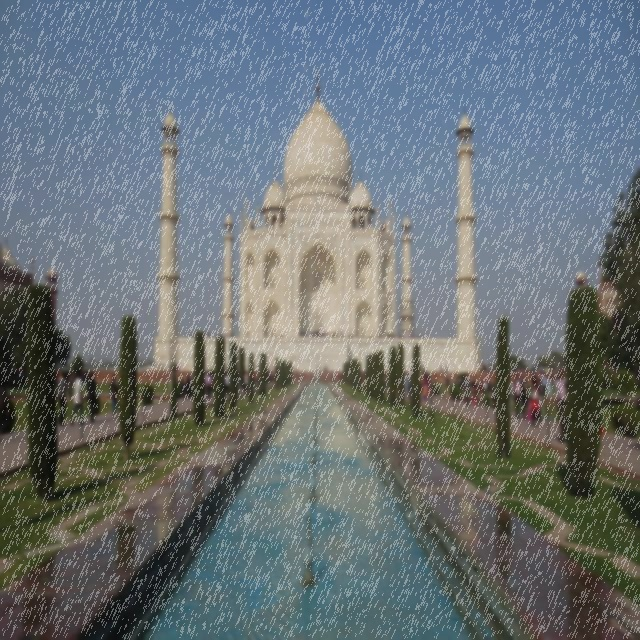pessoa: (70, 369, 86, 426), (556, 368, 567, 444), (529, 377, 542, 427), (0, 376, 10, 435), (58, 370, 68, 428), (87, 372, 97, 424), (512, 373, 523, 420), (343, 332, 414, 339), (520, 374, 530, 420), (514, 365, 566, 373), (110, 373, 119, 418), (462, 372, 472, 407), (537, 378, 544, 422), (526, 398, 535, 424), (509, 374, 515, 412), (471, 374, 478, 406), (205, 372, 212, 401), (490, 376, 496, 408), (444, 372, 450, 402), (422, 374, 428, 402), (547, 373, 558, 387), (479, 363, 496, 372), (310, 330, 329, 338), (186, 373, 192, 398), (546, 376, 552, 398), (420, 371, 426, 393), (268, 370, 276, 385), (406, 372, 410, 400), (169, 369, 173, 394), (204, 371, 208, 396), (542, 373, 546, 398), (428, 375, 434, 391), (530, 374, 542, 382), (478, 378, 483, 396), (181, 377, 185, 399), (244, 372, 248, 394), (482, 379, 487, 396), (600, 417, 604, 438), (384, 372, 388, 392), (404, 372, 408, 391), (191, 371, 194, 396), (486, 380, 491, 395), (227, 372, 230, 396), (171, 362, 180, 370), (337, 370, 343, 382), (206, 373, 209, 396), (237, 372, 240, 395), (256, 371, 260, 388), (362, 370, 366, 387), (454, 380, 458, 397), (299, 329, 308, 336), (58, 366, 68, 372), (239, 380, 244, 390), (229, 331, 236, 338), (254, 372, 257, 388), (296, 371, 300, 383), (158, 362, 164, 370), (274, 363, 280, 371), (433, 370, 437, 382), (147, 363, 153, 371), (252, 373, 255, 388), (519, 373, 524, 382), (404, 370, 406, 392), (244, 374, 246, 394), (562, 374, 566, 384), (212, 373, 215, 385), (18, 366, 24, 372), (386, 372, 388, 389), (459, 378, 462, 389), (227, 363, 230, 373), (314, 372, 317, 382), (330, 372, 333, 382), (314, 370, 317, 380), (189, 334, 196, 338), (331, 370, 333, 383), (225, 374, 227, 386), (295, 366, 298, 374), (280, 334, 284, 340), (416, 334, 419, 342), (330, 332, 334, 338), (360, 370, 362, 382), (456, 379, 459, 386), (207, 364, 209, 374), (325, 364, 327, 374), (342, 330, 344, 340), (424, 364, 426, 374), (270, 333, 274, 338), (164, 363, 166, 372), (208, 332, 210, 341), (203, 332, 206, 338), (316, 363, 318, 372), (418, 332, 420, 341), (373, 333, 376, 339), (378, 332, 381, 338), (399, 332, 402, 338), (419, 364, 422, 370), (318, 372, 320, 381), (410, 363, 412, 372), (256, 364, 258, 372), (318, 364, 320, 372), (446, 364, 448, 372), (420, 334, 422, 342), (424, 334, 426, 342), (340, 331, 342, 339), (452, 334, 456, 338), (439, 364, 441, 372), (226, 364, 228, 371), (224, 331, 226, 338), (276, 331, 278, 338), (335, 330, 337, 337), (211, 364, 213, 370), (228, 332, 230, 338), (248, 332, 250, 338), (326, 366, 328, 372), (324, 367, 326, 373), (436, 366, 438, 372), (440, 364, 442, 370), (398, 332, 400, 338), (406, 332, 408, 338), (422, 364, 424, 370), (422, 365, 424, 371), (226, 333, 228, 338), (291, 332, 293, 337), (396, 333, 398, 338), (226, 331, 228, 335), (280, 332, 282, 336), (312, 370, 314, 374), (416, 336, 418, 340), (266, 366, 268, 370), (275, 334, 277, 338), (384, 372, 386, 376), (444, 368, 446, 372), (258, 364, 259, 371), (153, 364, 156, 366), (339, 331, 340, 337), (184, 366, 185, 372), (220, 333, 222, 336), (278, 335, 280, 338), (338, 332, 339, 337), (156, 364, 158, 366), (254, 372, 256, 374), (184, 337, 187, 338), (216, 336, 217, 338), (211, 335, 212, 337), (214, 336, 215, 338), (420, 364, 420, 371)
